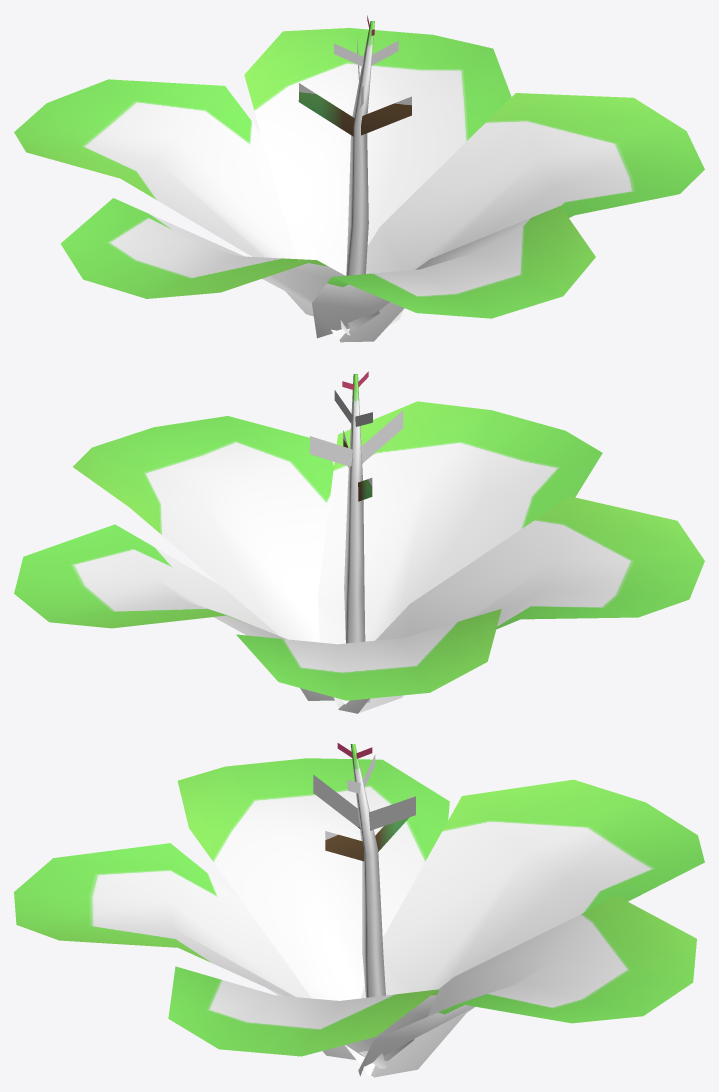
File: HibiscusFlower2.fbx
The picture shows the model from 3 angles, top to bottom: view 1: azimuth 30°, elevation 25°; view 2: azimuth 150°, elevation 25°; view 3: azimuth 270°, elevation 25°; orthographic projection. The views are drawn at different scales.
Visible parts, largest first — view 1: Plane.017, Cylinder.002, Plane.018, Plane.019; view 2: Plane.017, Cylinder.002, Plane.018, Plane.019; view 3: Plane.017, Cylinder.002, Plane.018, Plane.019.
Boxes of the visible parts, bbox=[...] form: Plane.017: bbox=[14, 28, 704, 342]; Cylinder.002: bbox=[345, 21, 374, 328]; Plane.018: bbox=[298, 15, 411, 136]; Plane.019: bbox=[299, 21, 411, 135]; Plane.017: bbox=[14, 401, 704, 713]; Cylinder.002: bbox=[344, 374, 365, 643]; Plane.018: bbox=[309, 371, 403, 501]; Plane.019: bbox=[309, 372, 402, 499]; Plane.017: bbox=[14, 758, 704, 1077]; Cylinder.002: bbox=[350, 744, 385, 1063]; Plane.018: bbox=[313, 743, 415, 861]; Plane.019: bbox=[313, 744, 415, 860].
Size of the model in its own units: 40.86 by 20.85 by 39.5.
